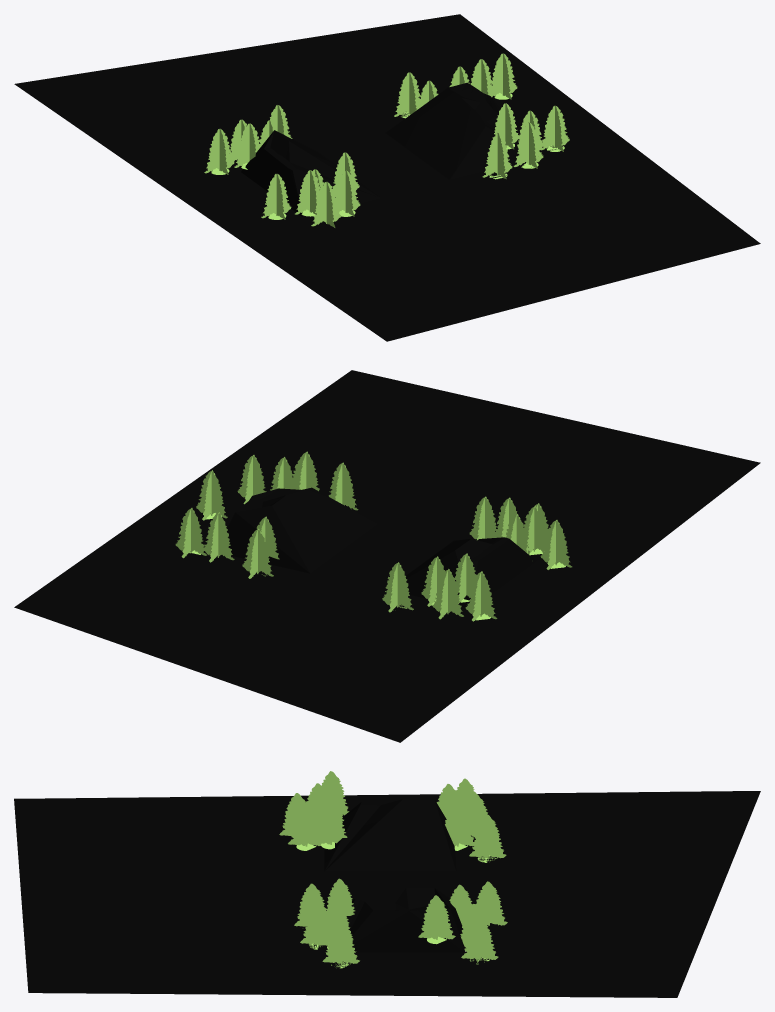
File: bridge3_environment.obj
The picture shows the model from 3 angles, top to bottom: view 1: azimuth 30°, elevation 25°; view 2: azimuth 150°, elevation 25°; view 3: azimuth 270°, elevation 25°; orthographic projection. The views are drawn at different scales.
Parts seen in each view (by area): view 1: mesh_0, mesh_2, mesh_3, mesh_17, mesh_1, mesh_19, mesh_14, mesh_5, mesh_12, mesh_13, mesh_21, mesh_16 (+1 smaller); view 2: mesh_0, mesh_3, mesh_2, mesh_9, mesh_1, mesh_8, mesh_13, mesh_4, mesh_20, mesh_11, mesh_21, mesh_19 (+4 smaller); view 3: mesh_0, mesh_1, mesh_8, mesh_19, mesh_9, mesh_11, mesh_5, mesh_6, mesh_13, mesh_17, mesh_16, mesh_14 (+8 smaller).
Boxes of the visible parts, bbox=[...] form: mesh_0: bbox=[14, 14, 760, 341]; mesh_2: bbox=[204, 128, 234, 174]; mesh_3: bbox=[261, 173, 291, 219]; mesh_17: bbox=[513, 122, 543, 168]; mesh_1: bbox=[489, 53, 517, 99]; mesh_19: bbox=[541, 105, 569, 151]; mesh_14: bbox=[482, 133, 512, 179]; mesh_5: bbox=[335, 170, 360, 216]; mesh_12: bbox=[311, 181, 340, 227]; mesh_13: bbox=[394, 72, 420, 118]; mesh_21: bbox=[295, 170, 320, 216]; mesh_16: bbox=[492, 103, 519, 149]; mesh_0: bbox=[14, 370, 760, 742]; mesh_3: bbox=[540, 520, 572, 569]; mesh_2: bbox=[465, 571, 497, 621]; mesh_9: bbox=[175, 508, 206, 558]; mesh_1: bbox=[196, 470, 227, 520]; mesh_8: bbox=[382, 562, 413, 612]; mesh_13: bbox=[242, 528, 273, 578]; mesh_4: bbox=[432, 569, 463, 619]; mesh_20: bbox=[204, 512, 234, 562]; mesh_11: bbox=[469, 496, 498, 540]; mesh_21: bbox=[523, 506, 545, 555]; mesh_19: bbox=[237, 455, 266, 504]; mesh_0: bbox=[14, 791, 760, 997]; mesh_1: bbox=[418, 895, 455, 944]; mesh_8: bbox=[469, 814, 506, 862]; mesh_19: bbox=[322, 919, 359, 968]; mesh_9: bbox=[461, 916, 498, 964]; mesh_11: bbox=[312, 800, 347, 849]; mesh_5: bbox=[288, 802, 321, 850]; mesh_6: bbox=[445, 802, 475, 850]; mesh_13: bbox=[475, 881, 507, 927]; mesh_17: bbox=[300, 901, 327, 949]; mesh_16: bbox=[326, 878, 355, 915]; mesh_14: bbox=[294, 883, 325, 926].
Bounding box in the file's own units: 119 × 17.77 × 182.
